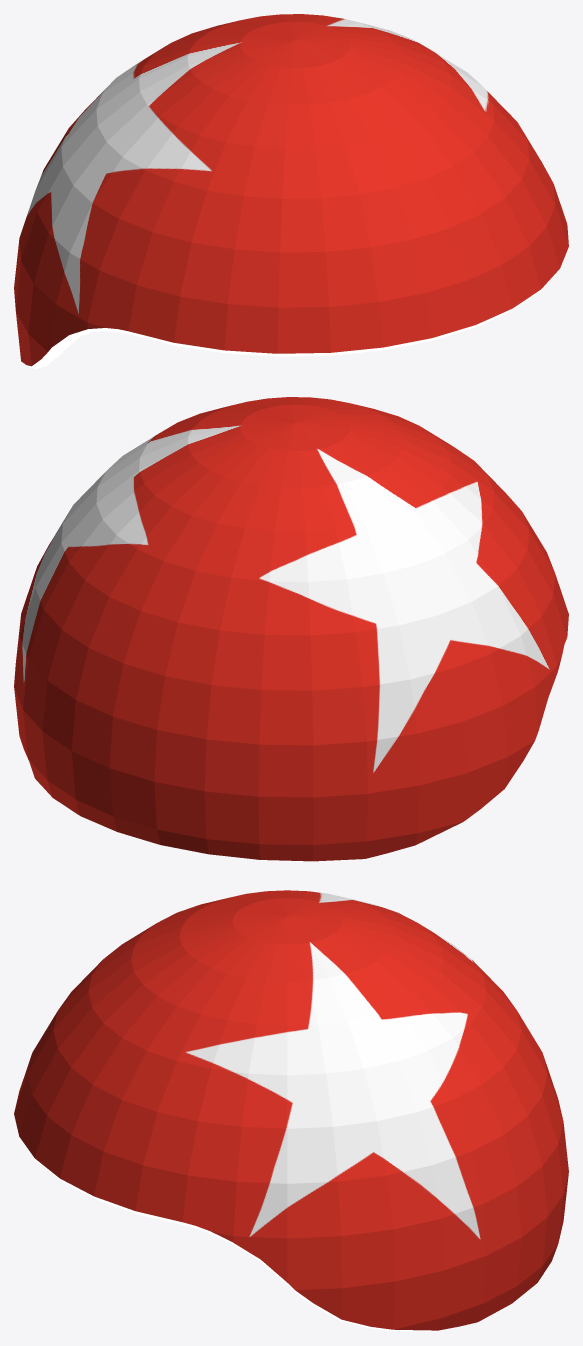
Rendered from Helmet.gltf.
The picture shows the model from 3 angles, top to bottom: view 1: azimuth 30°, elevation 25°; view 2: azimuth 150°, elevation 25°; view 3: azimuth 270°, elevation 25°; orthographic projection.
Visible parts, largest first — view 1: Sphere; view 2: Sphere; view 3: Sphere.
Part boxes in pixels (x1,y1,x2,y2): Sphere: [14, 14, 568, 368]; Sphere: [14, 397, 568, 861]; Sphere: [14, 890, 568, 1331].
Size of the model in its own units: 0.236 by 0.1519 by 0.2333.
2 materials, 1 textured.
